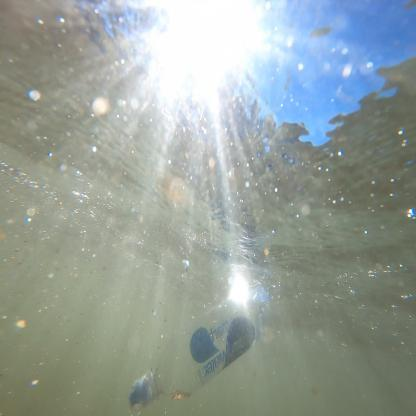Rác: (122, 282, 271, 415)
